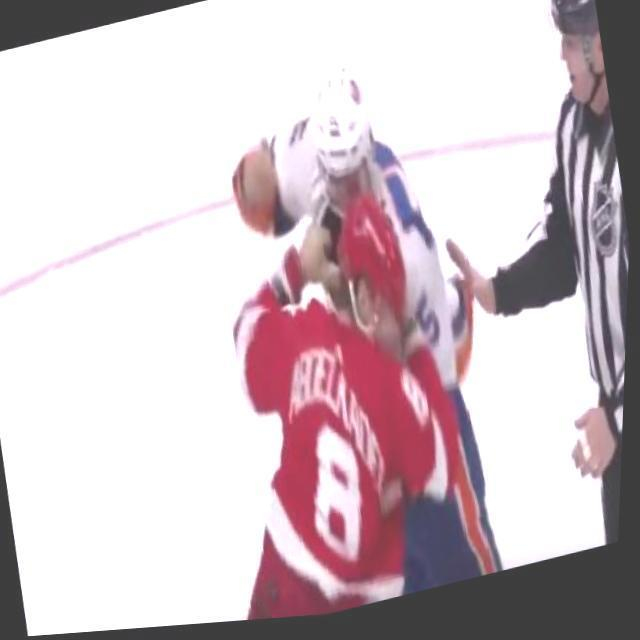fight: (172, 39, 526, 629)
